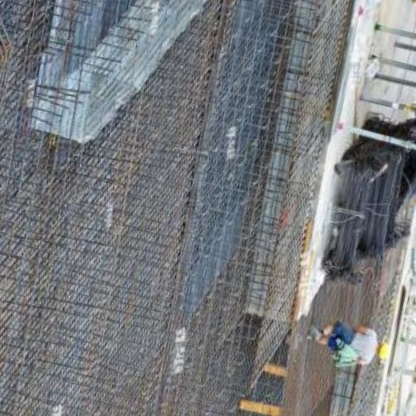yellow: (378, 337, 395, 363)
